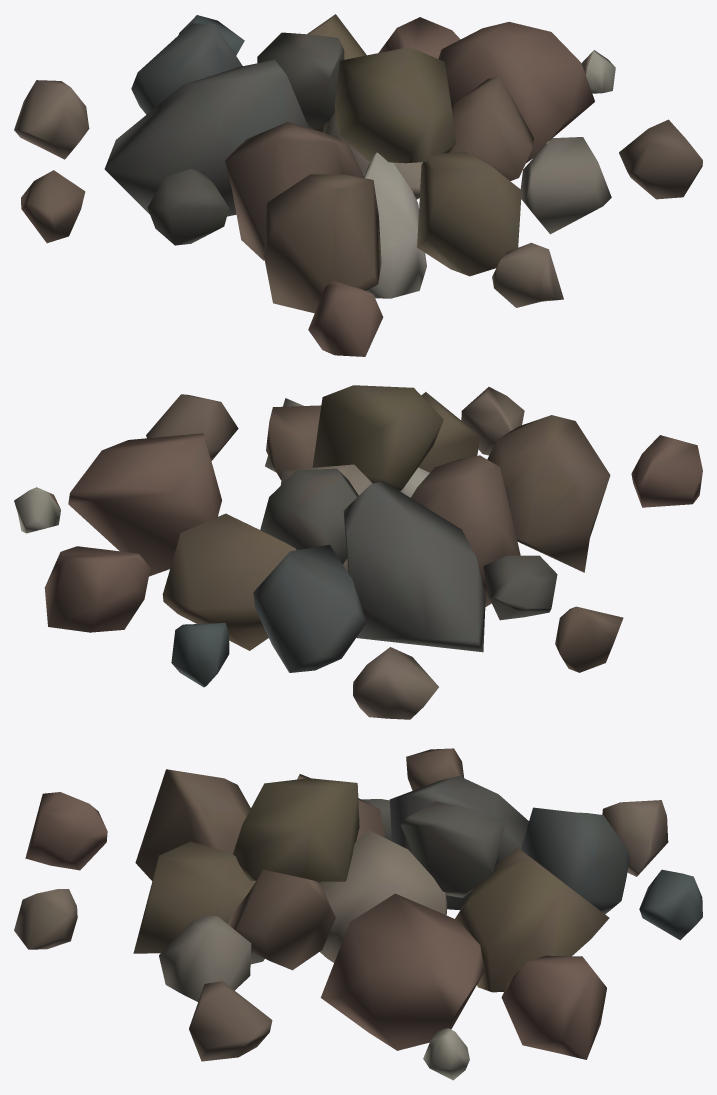
Rendered from rockPile1.fbx.
The picture shows the model from 3 angles, top to bottom: view 1: azimuth 30°, elevation 25°; view 2: azimuth 150°, elevation 25°; view 3: azimuth 270°, elevation 25°; orthographic projection.
Visible parts, largest first — view 1: rockPile1; view 2: rockPile1; view 3: rockPile1.
Boxes of the visible parts, left/top/right/bottom form: rockPile1: left=14, top=14, right=702, bottom=356; rockPile1: left=14, top=385, right=702, bottom=719; rockPile1: left=14, top=748, right=702, bottom=1080.
Size of the model in its own units: 4.6 by 1.52 by 4.56.
1 material, 1 textured.
